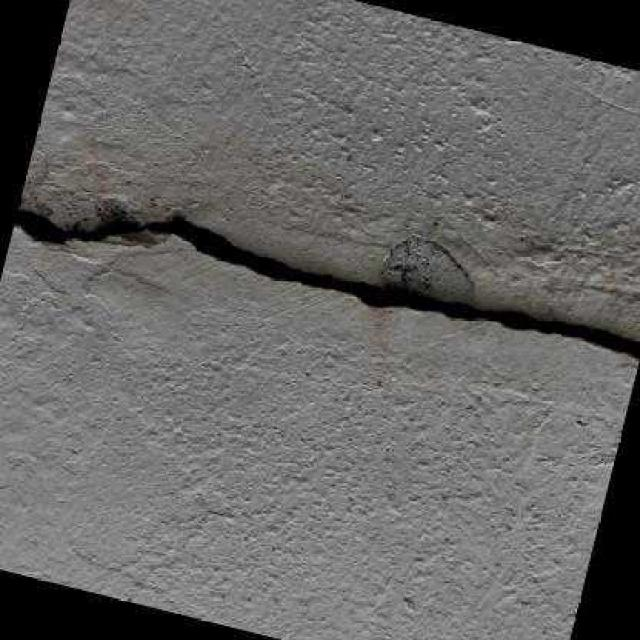D00: (14, 207, 640, 358)
